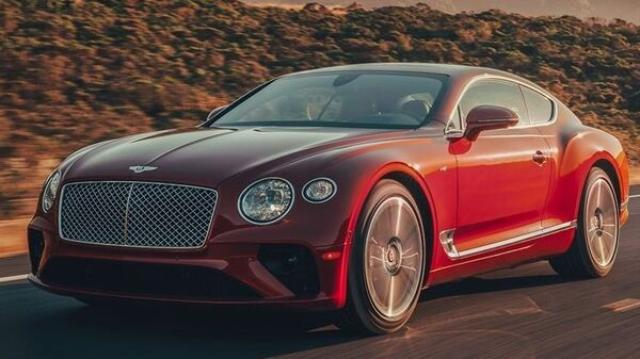bentley: (26, 61, 630, 336)
